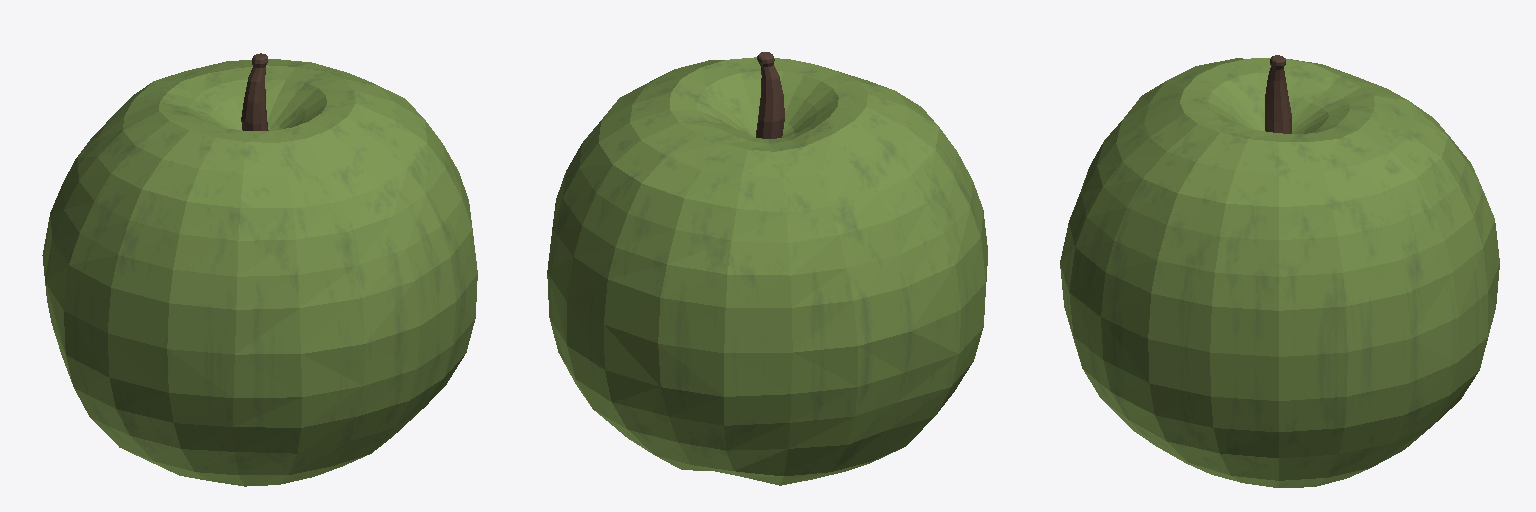
3 views of the same model, side by side, from view 1: azimuth 30°, elevation 25°; view 2: azimuth 150°, elevation 25°; view 3: azimuth 270°, elevation 25° (orthographic).
Visible parts, largest first — view 1: Cylinder.011, Cylinder.012; view 2: Cylinder.011, Cylinder.012; view 3: Cylinder.011, Cylinder.012.
Part boxes in pixels (x1,y1,x2,y2): Cylinder.011: (42, 59, 477, 486); Cylinder.012: (241, 53, 268, 130); Cylinder.011: (547, 57, 987, 485); Cylinder.012: (756, 52, 784, 138); Cylinder.011: (1060, 58, 1499, 487); Cylinder.012: (1265, 55, 1291, 133).
Bounding box in the file's own units: 2.02 × 2.01 × 2.
1 materials, 1 textured.